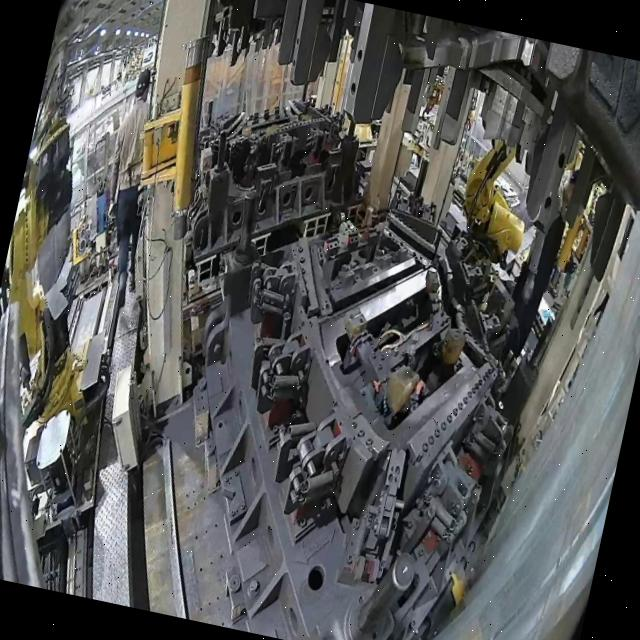Person: (82, 64, 180, 310), (496, 160, 580, 374)
